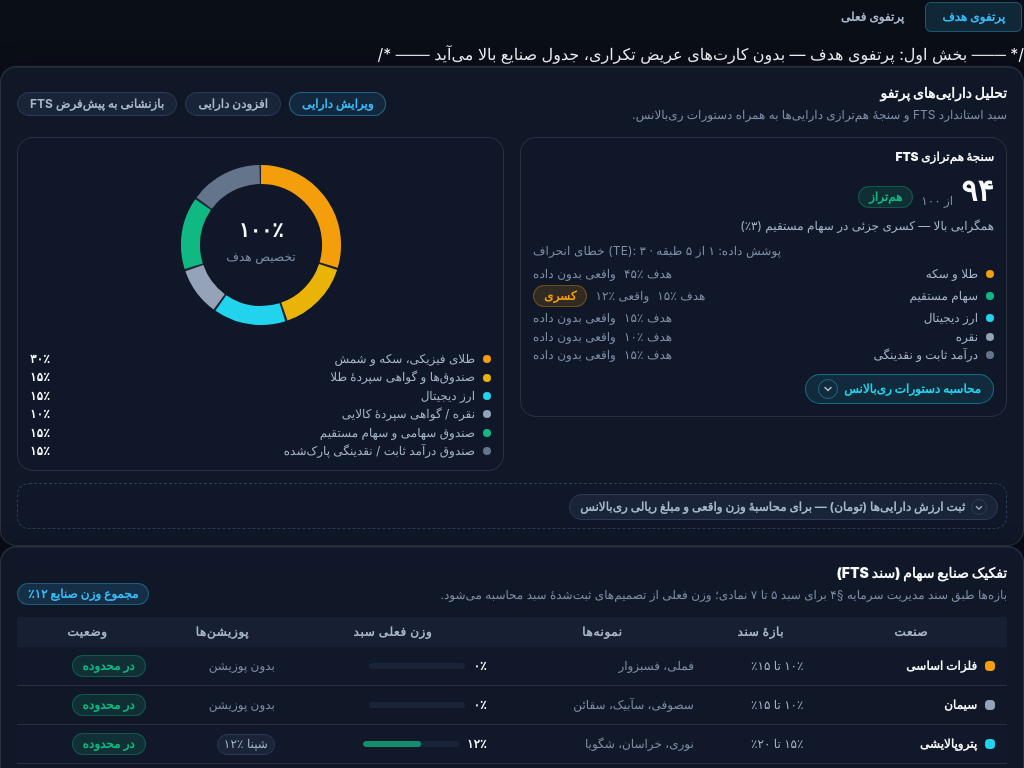
Test: پرتفوی فعلی — جدول سه‌گانه › تب حذف‌شده: ردیف رد شده دیده می شود
expect the button "ویرایش دارایی" is shown: met, box [289, 92, 386, 116]
Click the tab "پرتفوی فعلی".
click(872, 17)  # box [824, 2, 921, 32]
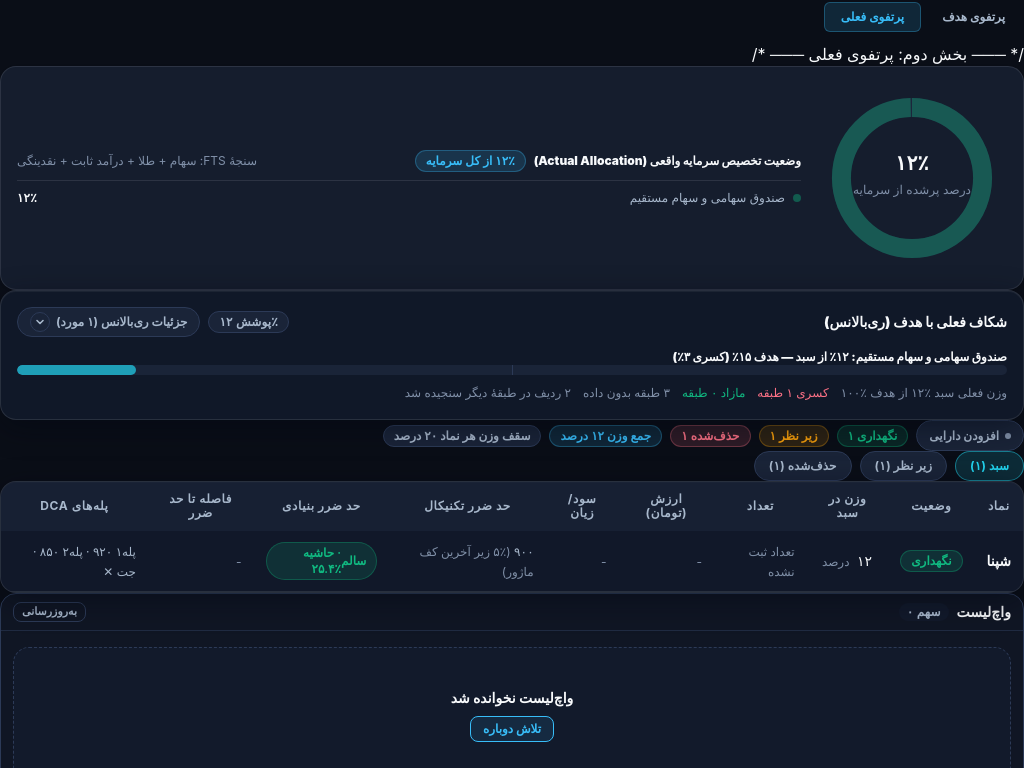
expect the heading "شکاف فعلی با هدف (ری‌بالانس)" is shown: met, box [824, 312, 1007, 332]
Click the button "حذف‌شده (۱)".
click(803, 466)  # box [754, 451, 852, 481]
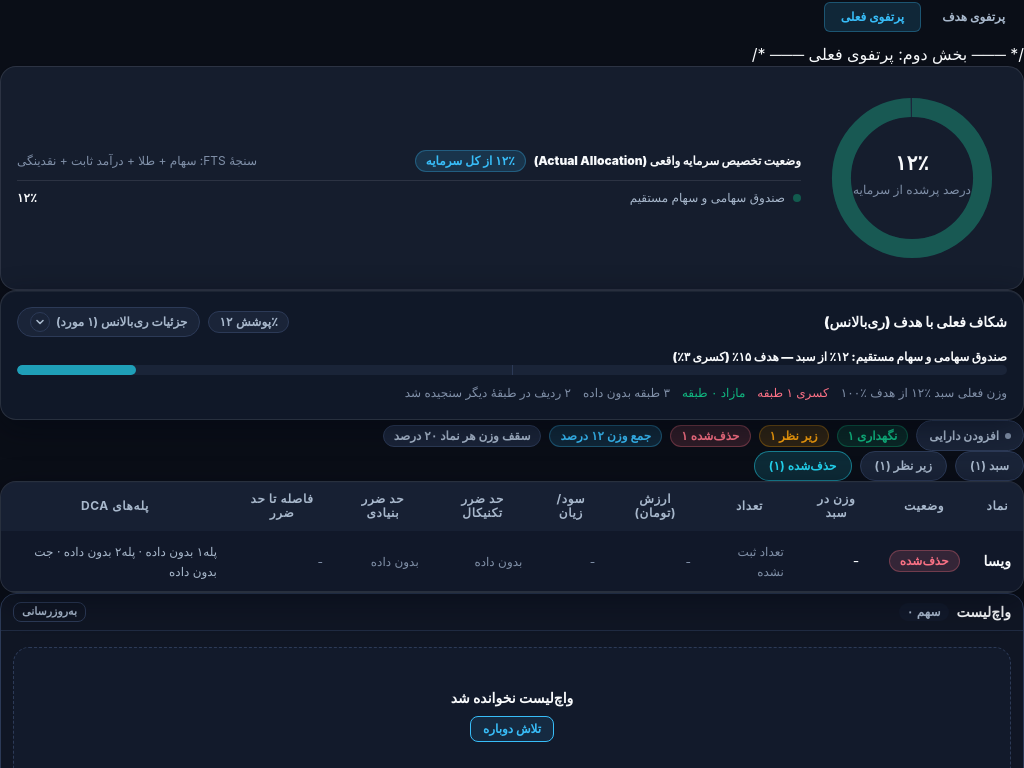
expect the text "ویسا" is shown: met, box [972, 531, 1023, 591]
